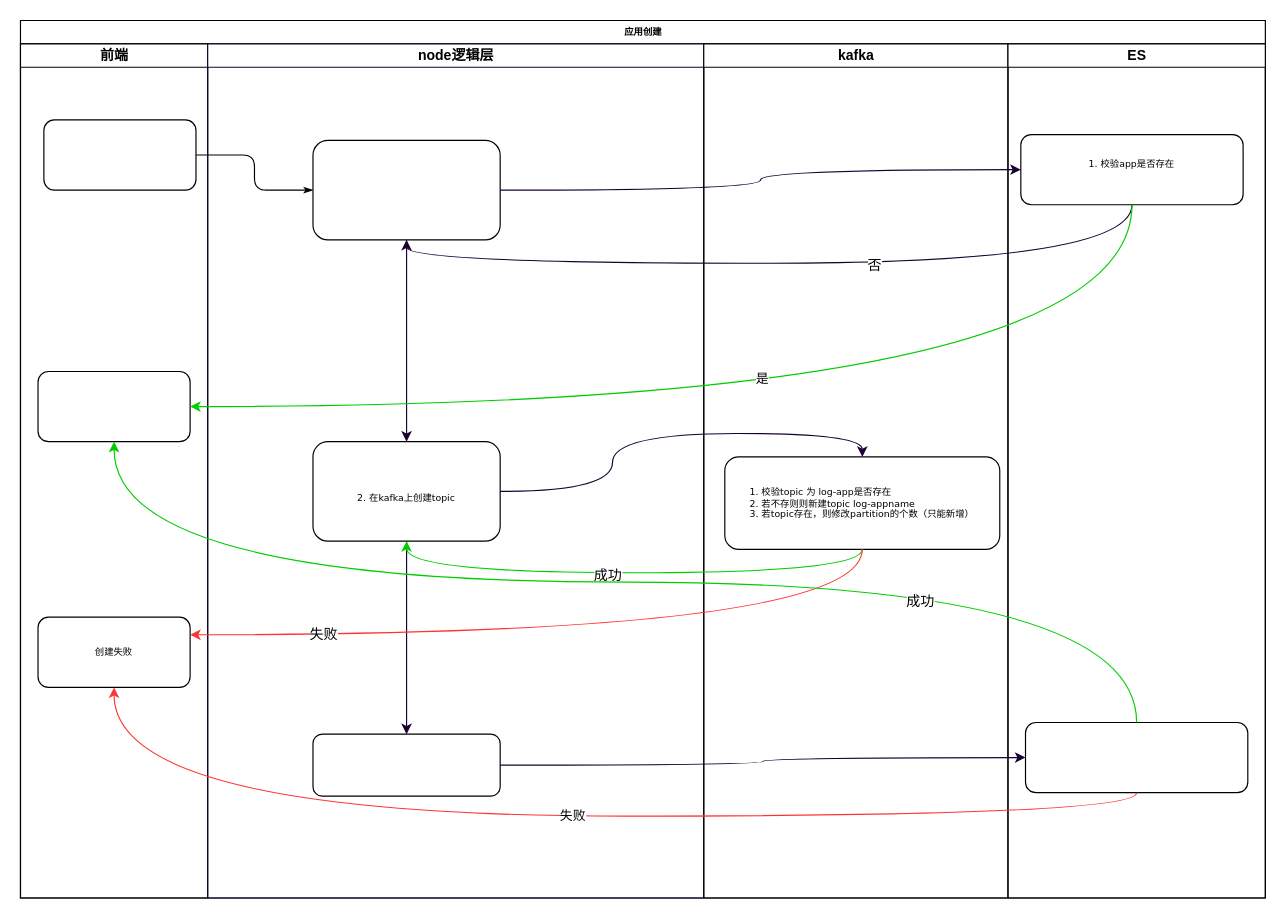
This 1286x918 diagram has some shape labels left out. Each missing label, with the centre of its shape:
1. 校验appname信息；: the point at 406,189
3. 存储app 相关信息: the point at 406,764
创建成功: the point at 113,406
将app相关信息存储到 logsight-kafka 的索引中: the point at 1136,757
用户输入appname partition num: the point at 119,154
